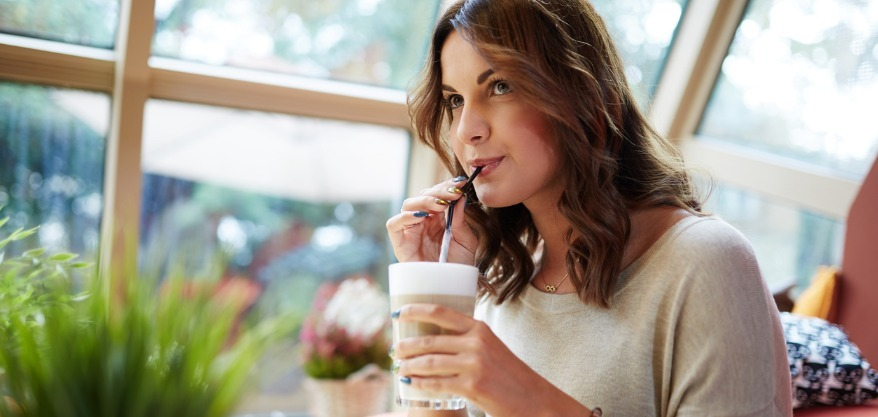drinking: (357, 2, 769, 406)
